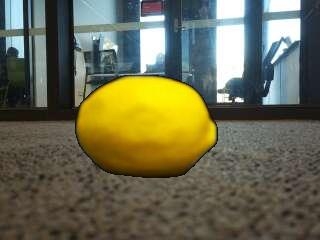lemon: (78, 78, 218, 179)
